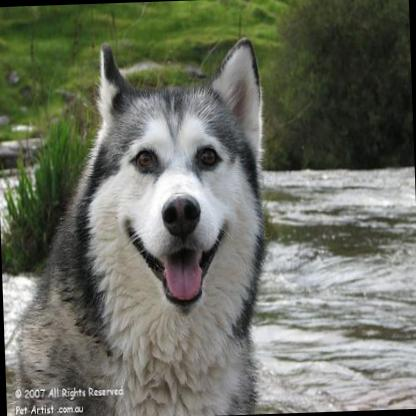Siberian_husky: (0, 35, 272, 416)
